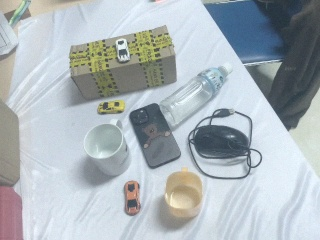bottle: (158, 64, 235, 131)
box: (69, 27, 177, 98), (1, 83, 21, 190)
cup: (83, 117, 131, 182), (161, 169, 203, 230)
mouse: (191, 124, 250, 161)
phone: (128, 102, 181, 170)
toy_car: (123, 180, 141, 215), (113, 38, 132, 63), (97, 100, 125, 115)
